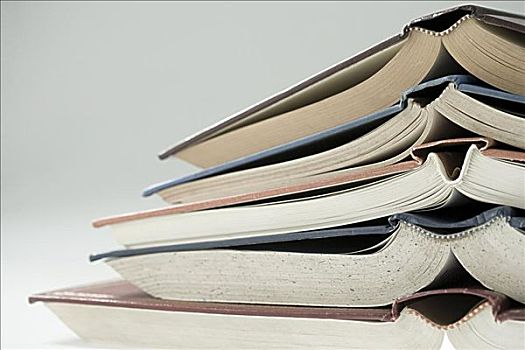book: (156, 4, 524, 160), (57, 133, 523, 242), (88, 209, 525, 304), (25, 272, 525, 350), (134, 92, 525, 190)
